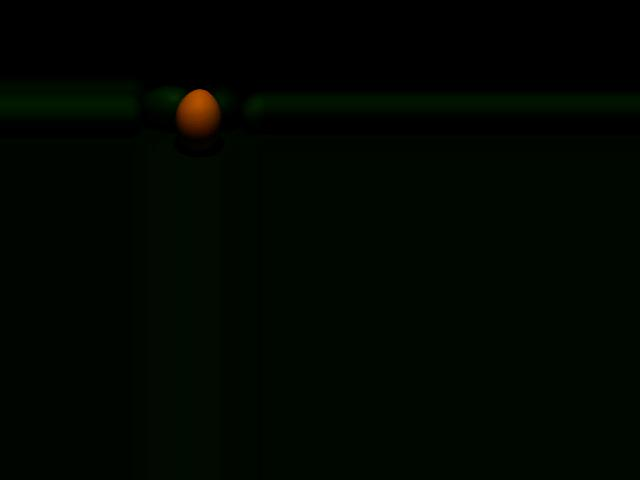egg: (174, 89, 221, 151)
